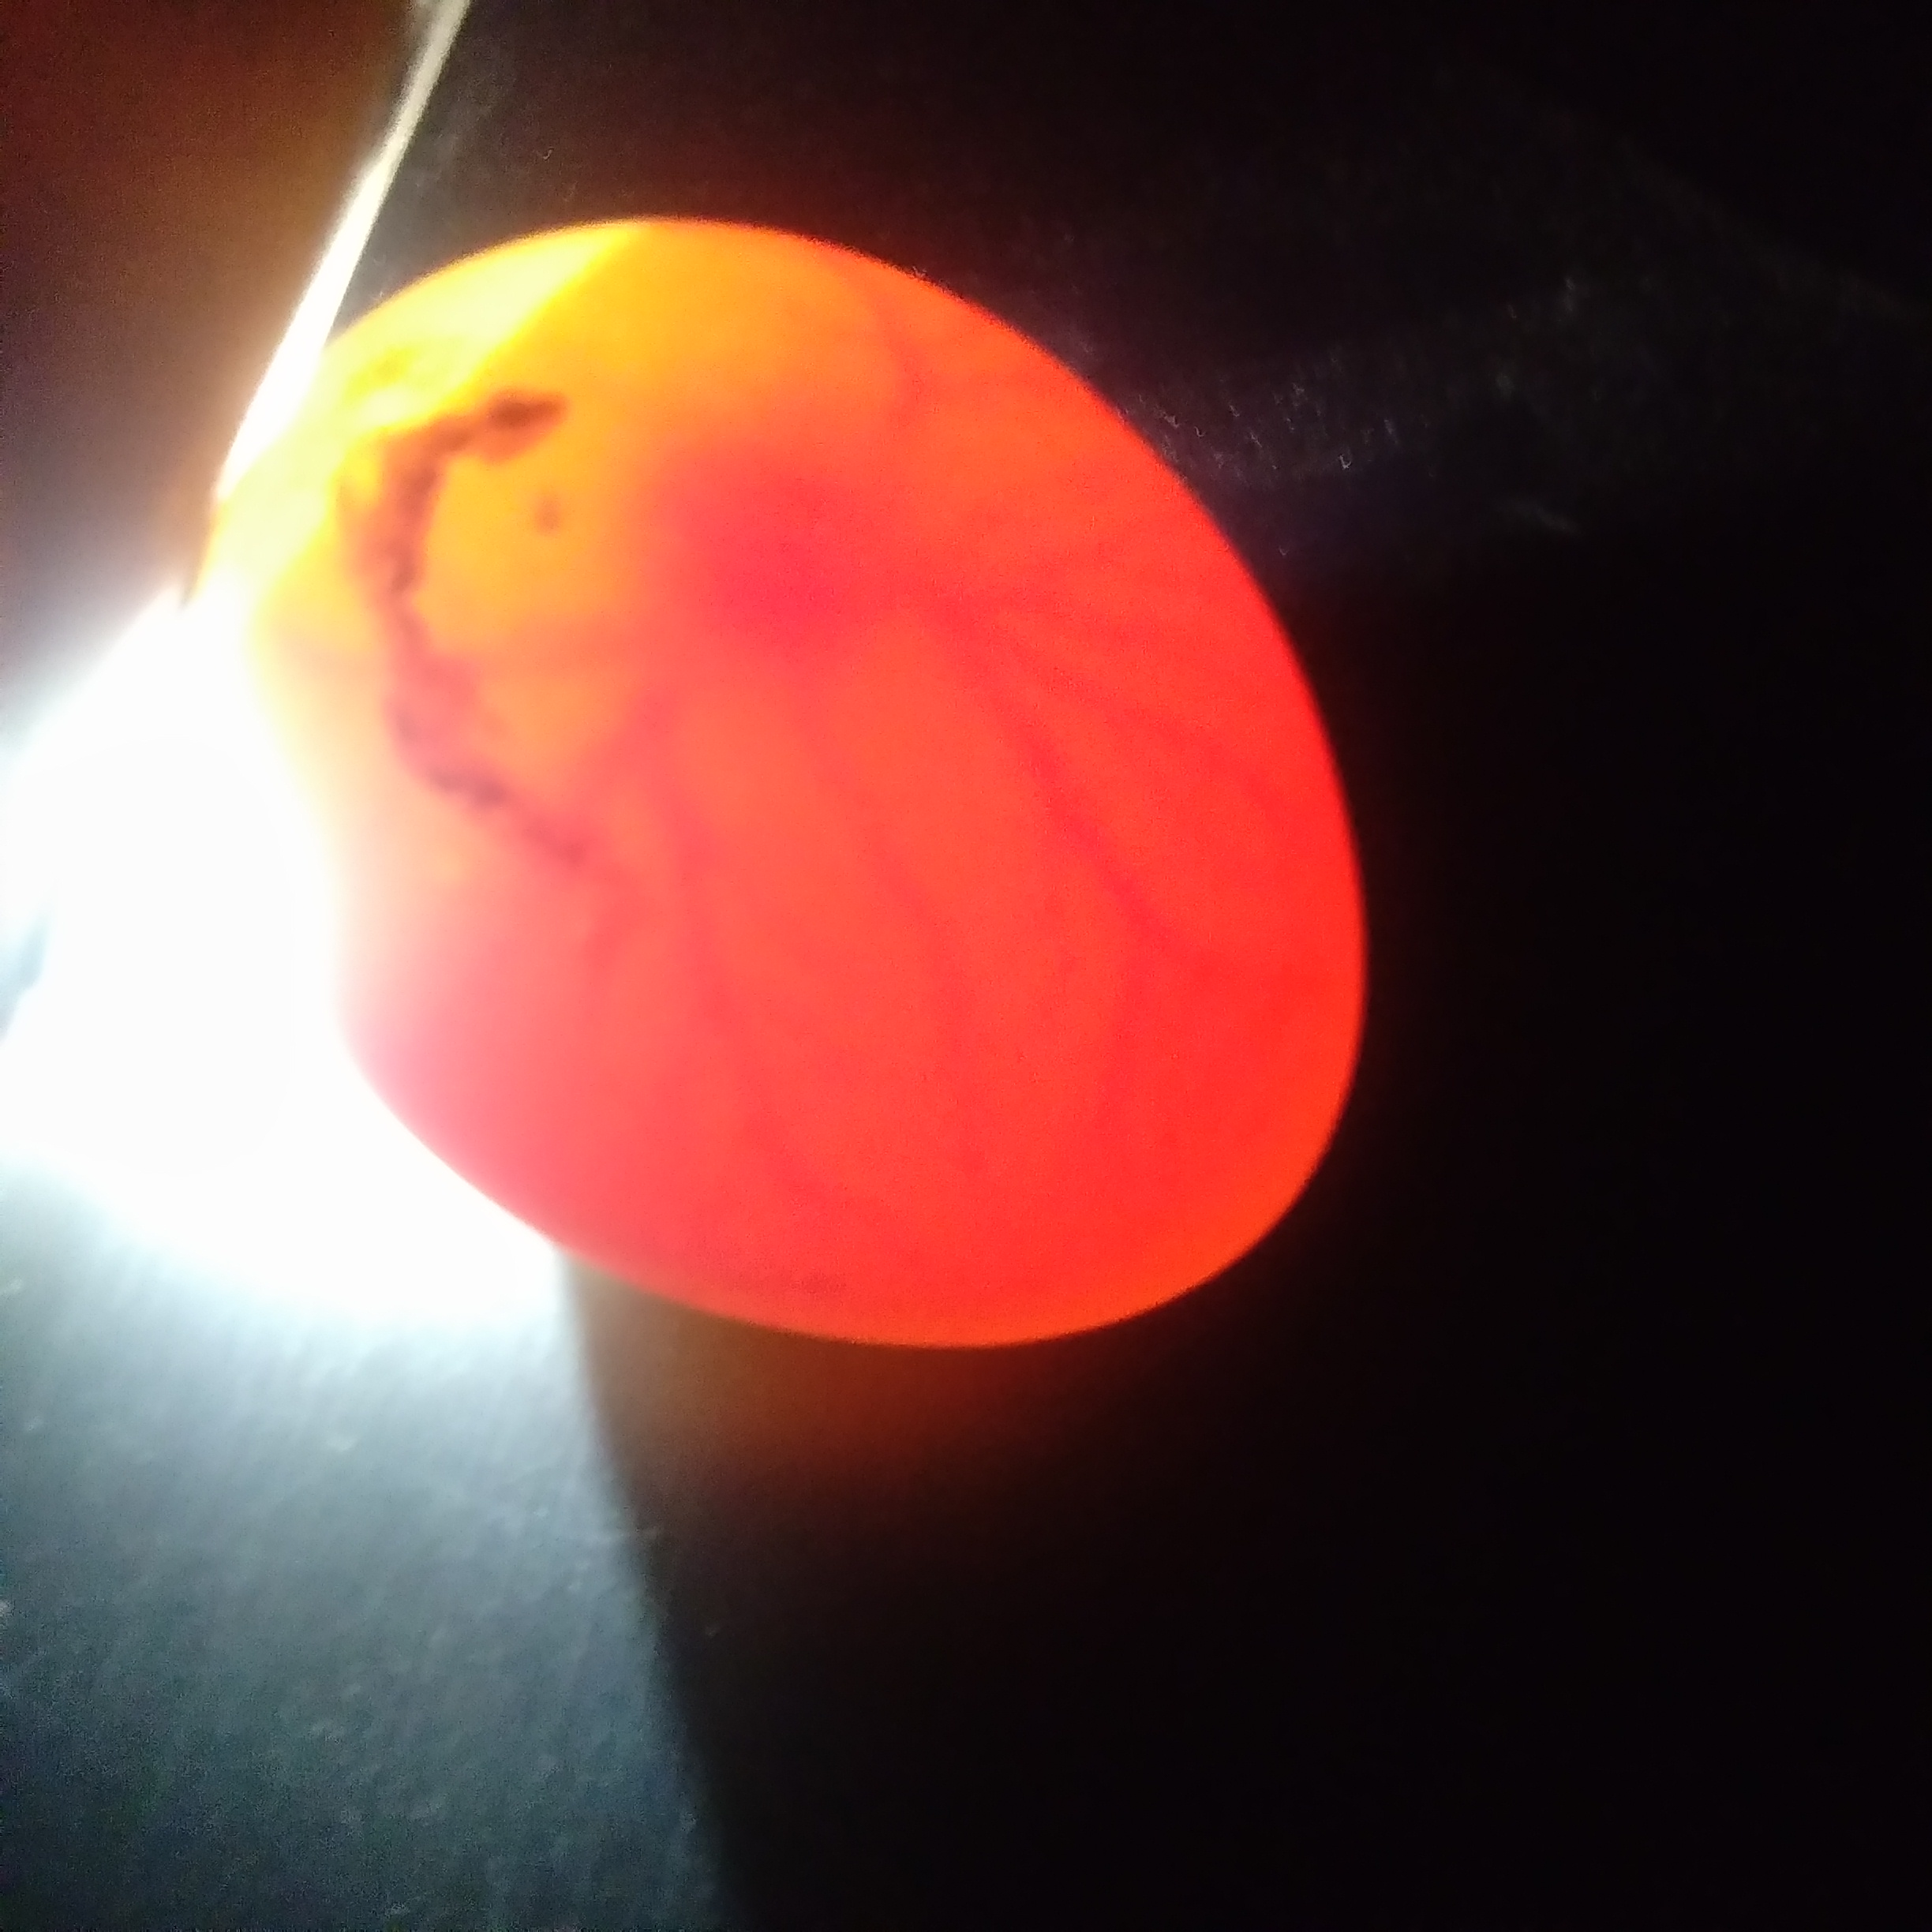bloodcell: (593, 777, 1208, 1125)
embryo: (639, 430, 920, 674)
